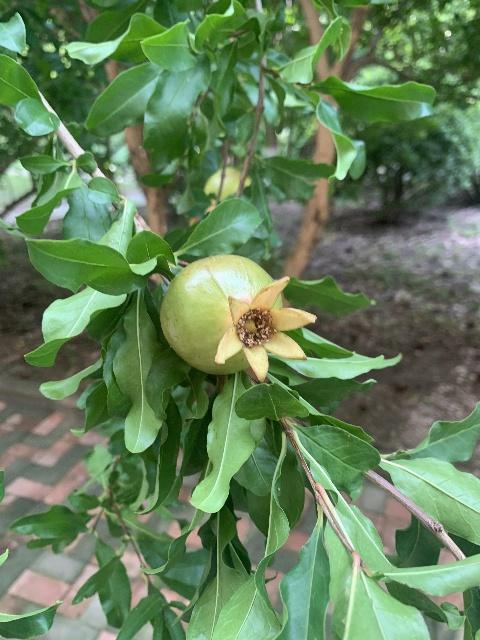mid-growth: (159, 254, 316, 383), (203, 166, 253, 214)
